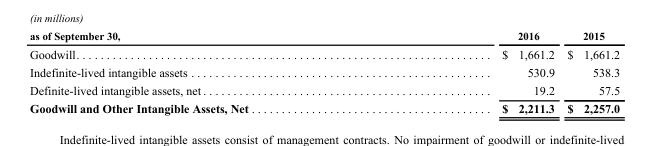table: (29, 29, 619, 114)
table column: (29, 29, 374, 114), (374, 29, 560, 114), (560, 29, 619, 114)
table column header: (29, 29, 619, 44)
table row: (29, 62, 619, 81), (29, 44, 619, 62), (29, 81, 619, 99), (29, 29, 619, 44), (29, 99, 619, 114)
